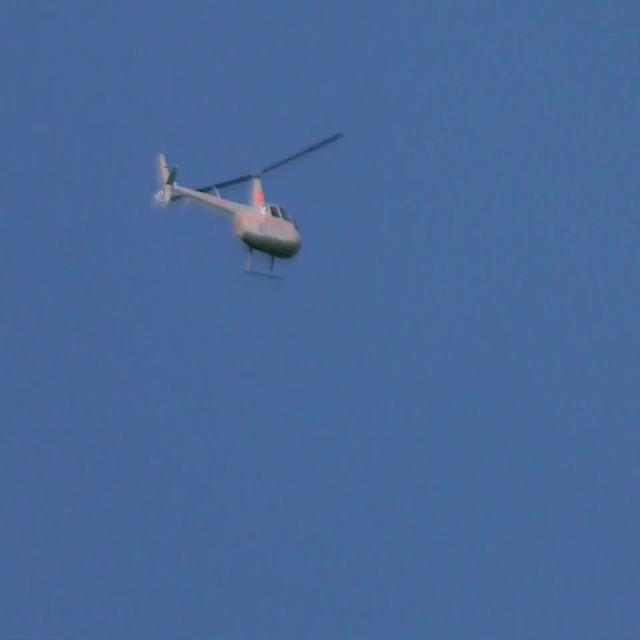CIV_HELO: (157, 149, 303, 287)
